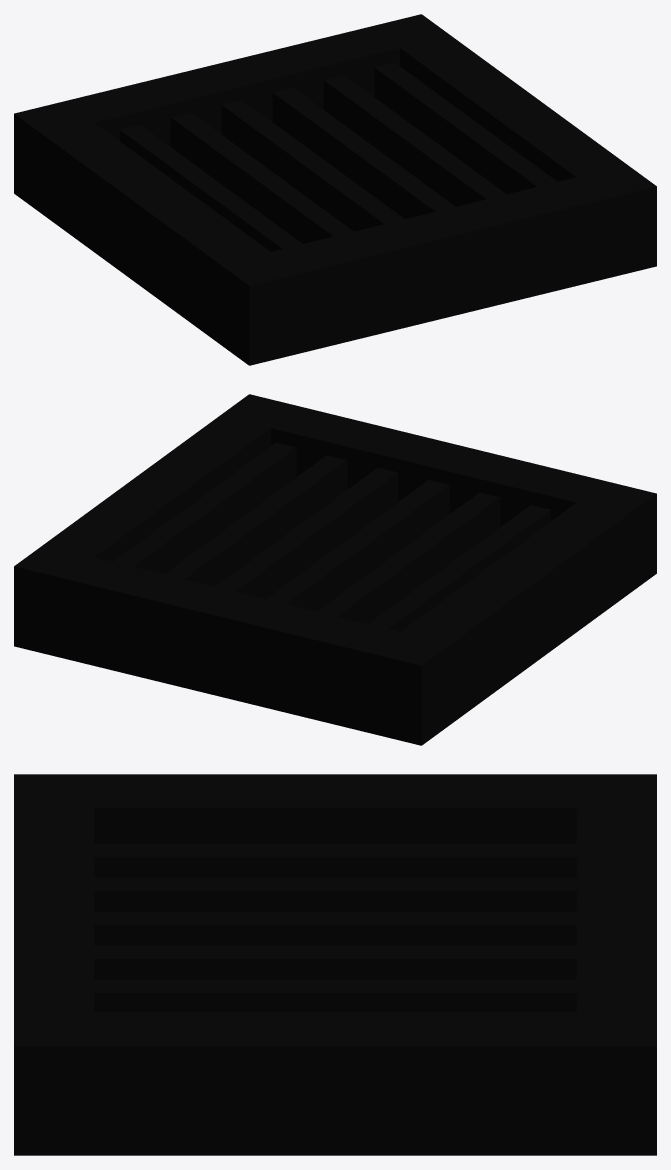
File: lab_floor_grate.obj
3 renders of one model, top to bottom at view 1: azimuth 30°, elevation 25°; view 2: azimuth 150°, elevation 25°; view 3: azimuth 270°, elevation 25°, orthographic. The views are drawn at different scales.
Size of the model in its own units: 1 by 0.1875 by 1.
